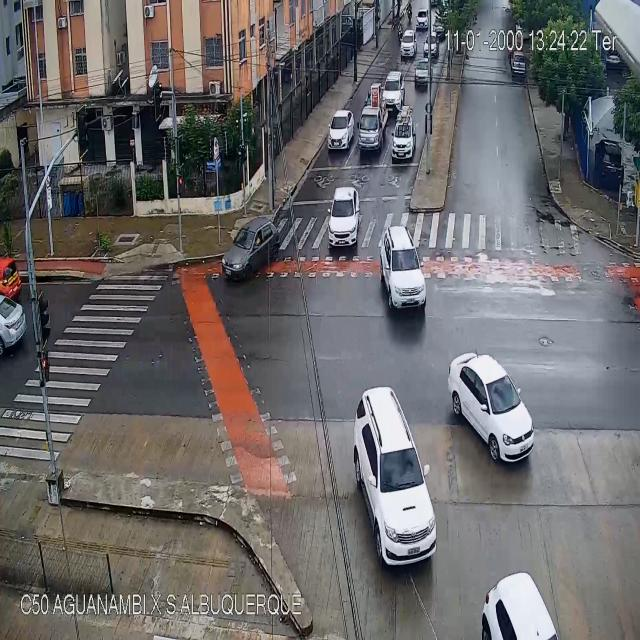Car: (353, 384, 439, 567), (449, 350, 536, 462), (484, 573, 556, 639), (380, 225, 426, 308), (221, 219, 280, 280), (326, 187, 362, 250), (0, 298, 33, 364), (382, 65, 408, 117), (390, 115, 416, 165), (0, 253, 26, 299), (328, 111, 355, 152), (415, 56, 432, 86), (401, 30, 416, 60), (424, 33, 437, 63), (511, 49, 524, 73), (418, 8, 428, 38)
Motorcycle: (406, 5, 412, 27)
Truck: (358, 108, 384, 150)
